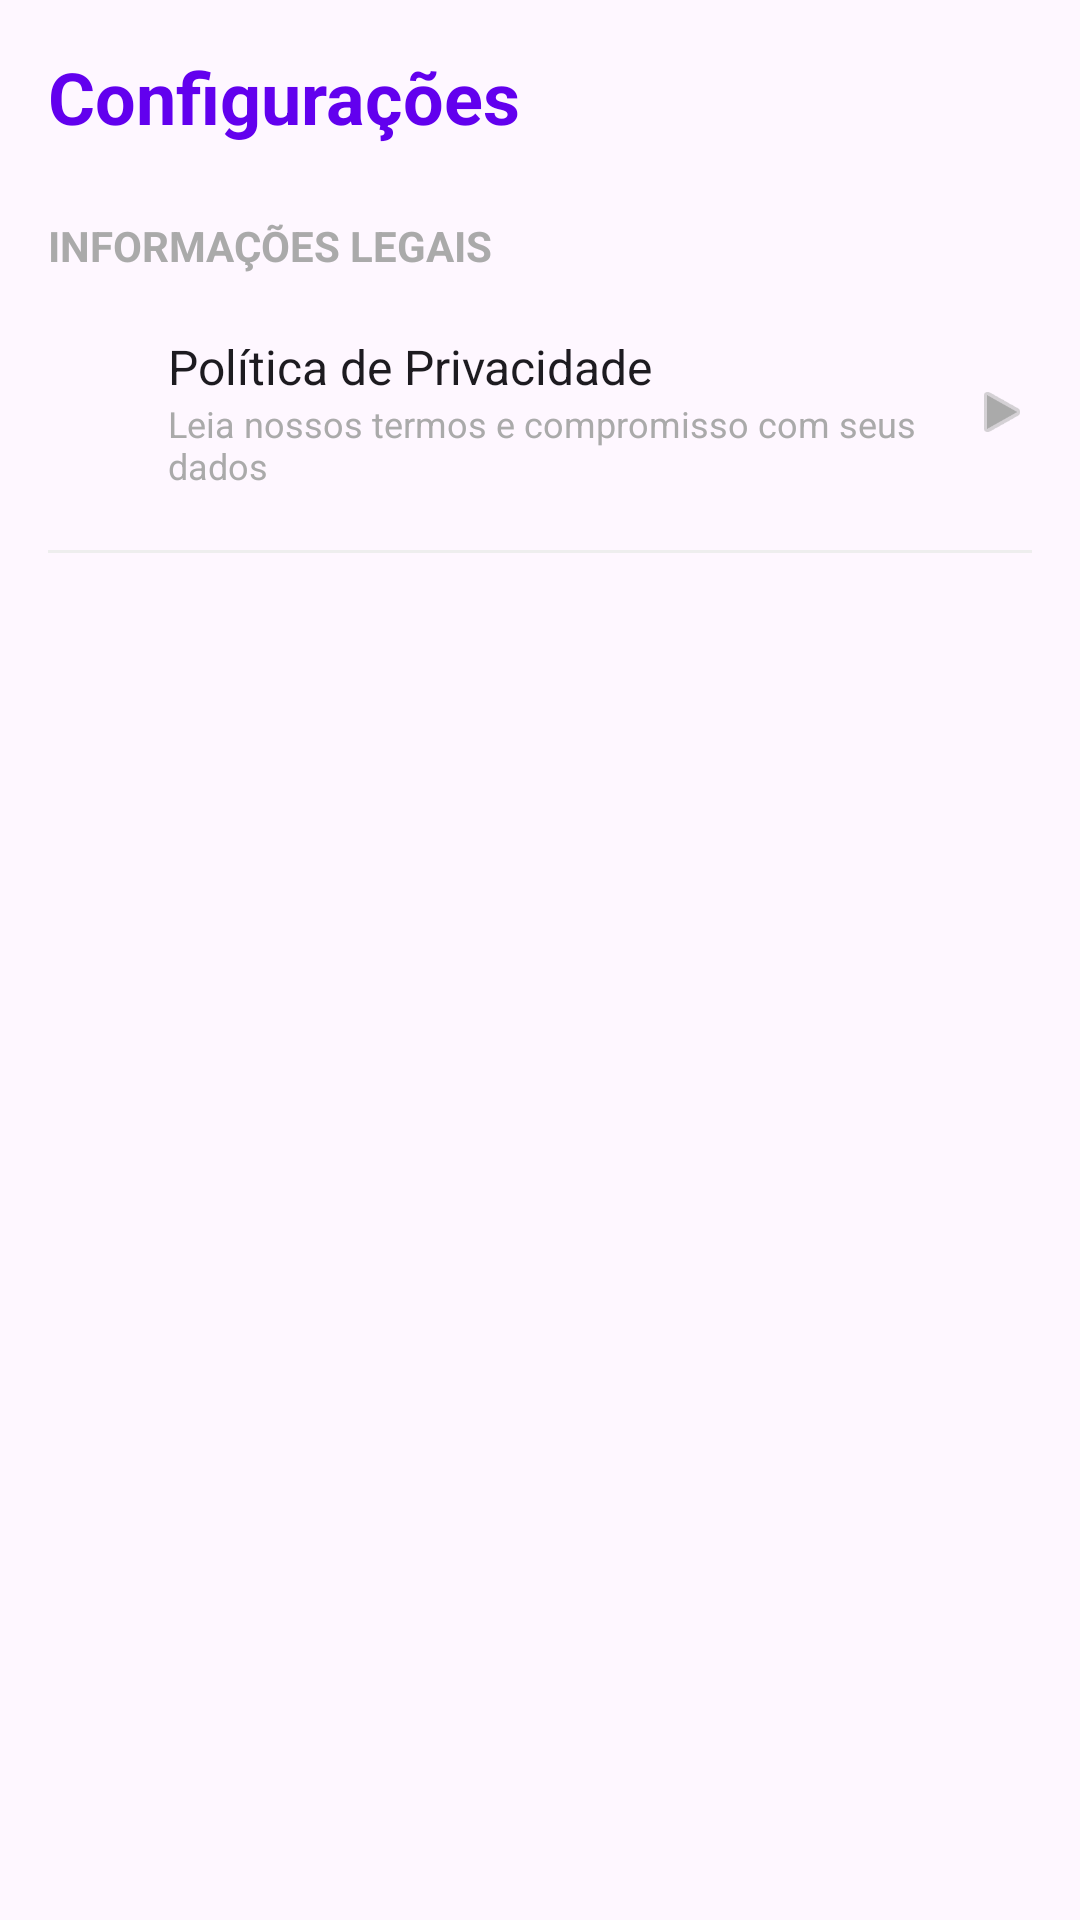

Locate icon controls on the screen. Image size 1080w x 1920h, boxes as Rect(x1, y1, x2, y2).
play: Rect(984, 392, 1020, 432)
